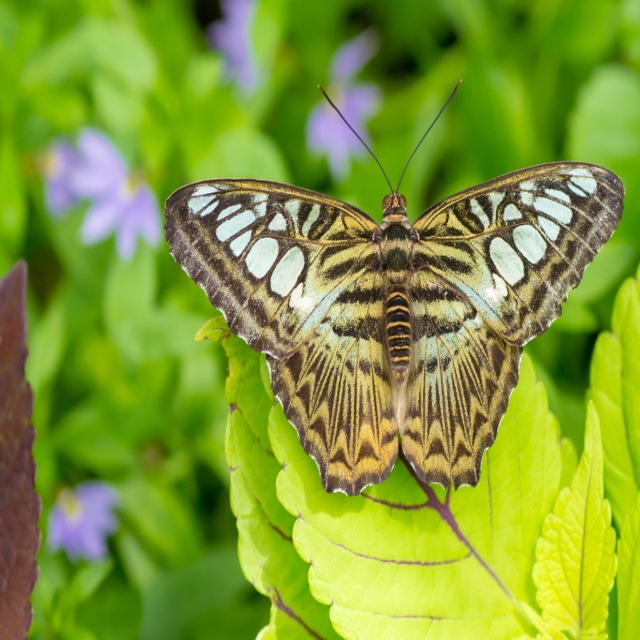Butterfly: (171, 74, 599, 522)
